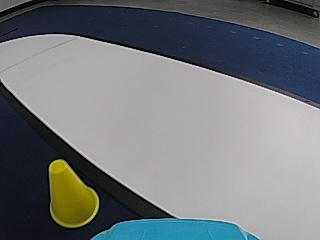cone: (46, 159, 98, 227)
